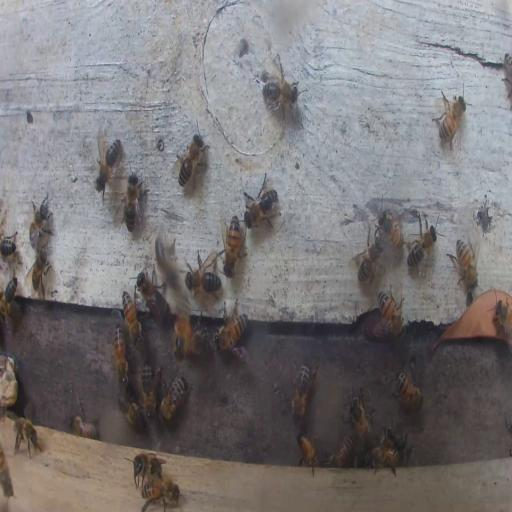nonpollenbee: (174, 124, 208, 192), (406, 212, 442, 276), (432, 89, 468, 152), (348, 228, 384, 285), (244, 175, 280, 231), (259, 70, 300, 116), (95, 133, 123, 195), (183, 252, 221, 296), (135, 269, 169, 313), (451, 239, 479, 292), (159, 374, 189, 422), (214, 308, 248, 350), (123, 171, 146, 232), (346, 393, 375, 440), (12, 414, 42, 459), (140, 478, 180, 511), (222, 214, 243, 276), (290, 361, 312, 419), (377, 206, 406, 249), (377, 289, 404, 335), (28, 196, 53, 245), (395, 368, 422, 410), (122, 291, 142, 343), (116, 390, 144, 427), (130, 451, 163, 482), (29, 246, 49, 295), (155, 239, 178, 281), (113, 320, 128, 384), (297, 433, 321, 473), (0, 276, 20, 323), (324, 436, 354, 467), (180, 327, 209, 355), (141, 364, 156, 418), (0, 443, 14, 499), (379, 429, 409, 454), (366, 447, 398, 469), (68, 414, 98, 436), (1, 235, 17, 259), (505, 52, 511, 100)
pollenbee: (174, 306, 194, 360)
